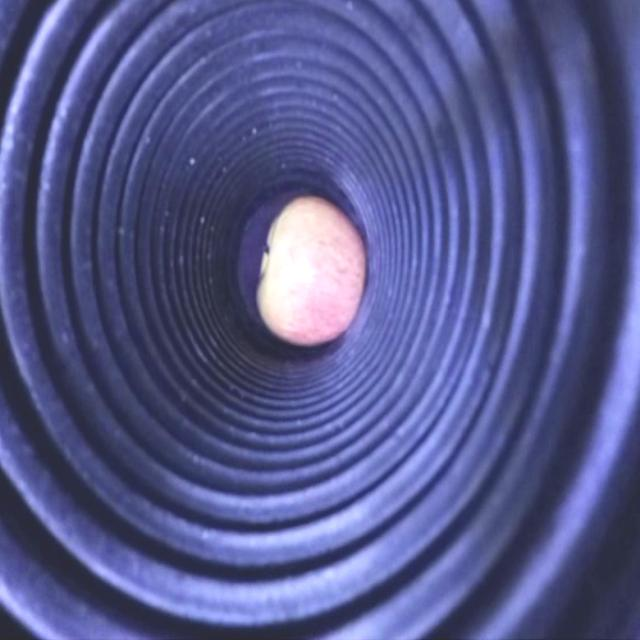obstacles: (258, 195, 366, 346)
